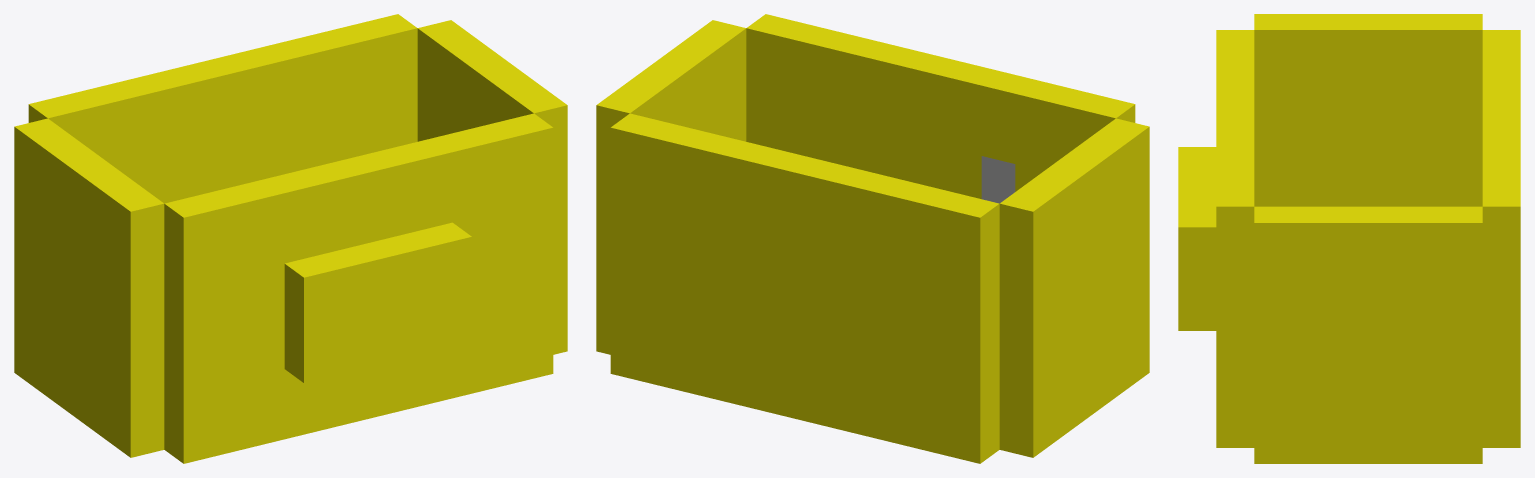
The model's file is accessories_clothes_tshirt.glb.
3 views of the same model, side by side, from view 1: azimuth 30°, elevation 25°; view 2: azimuth 150°, elevation 25°; view 3: azimuth 270°, elevation 25° (orthographic). The views are drawn at different scales.
Parts seen in each view (by area): view 1: model_0.001; view 2: model_0.001; view 3: model_0.001.
Part boxes in pixels (x1,y1,x2,y2): model_0.001: [14, 14, 567, 463]; model_0.001: [596, 14, 1149, 463]; model_0.001: [1178, 14, 1520, 463].
Bounding box in the file's own units: 13 × 7 × 9.
